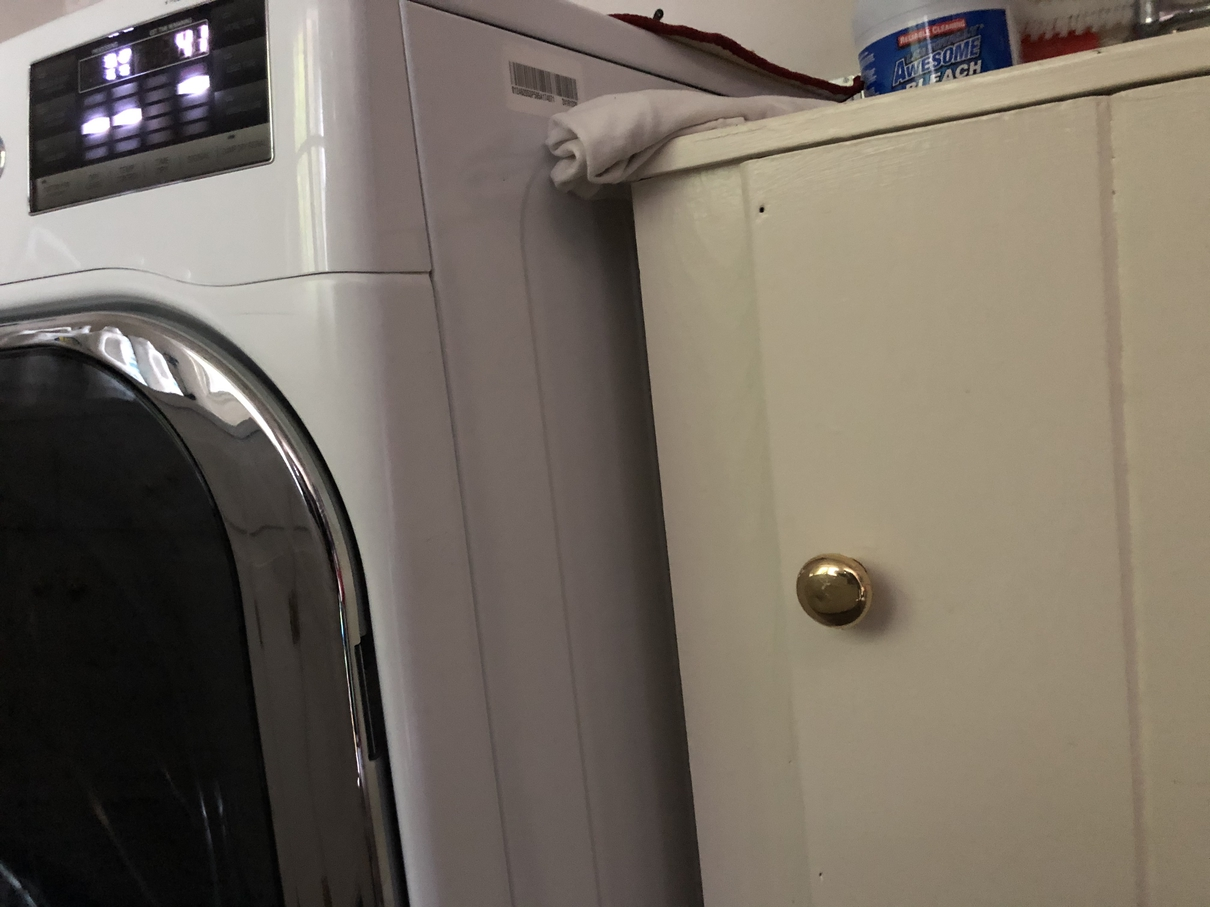status: (64, 16, 218, 96)
